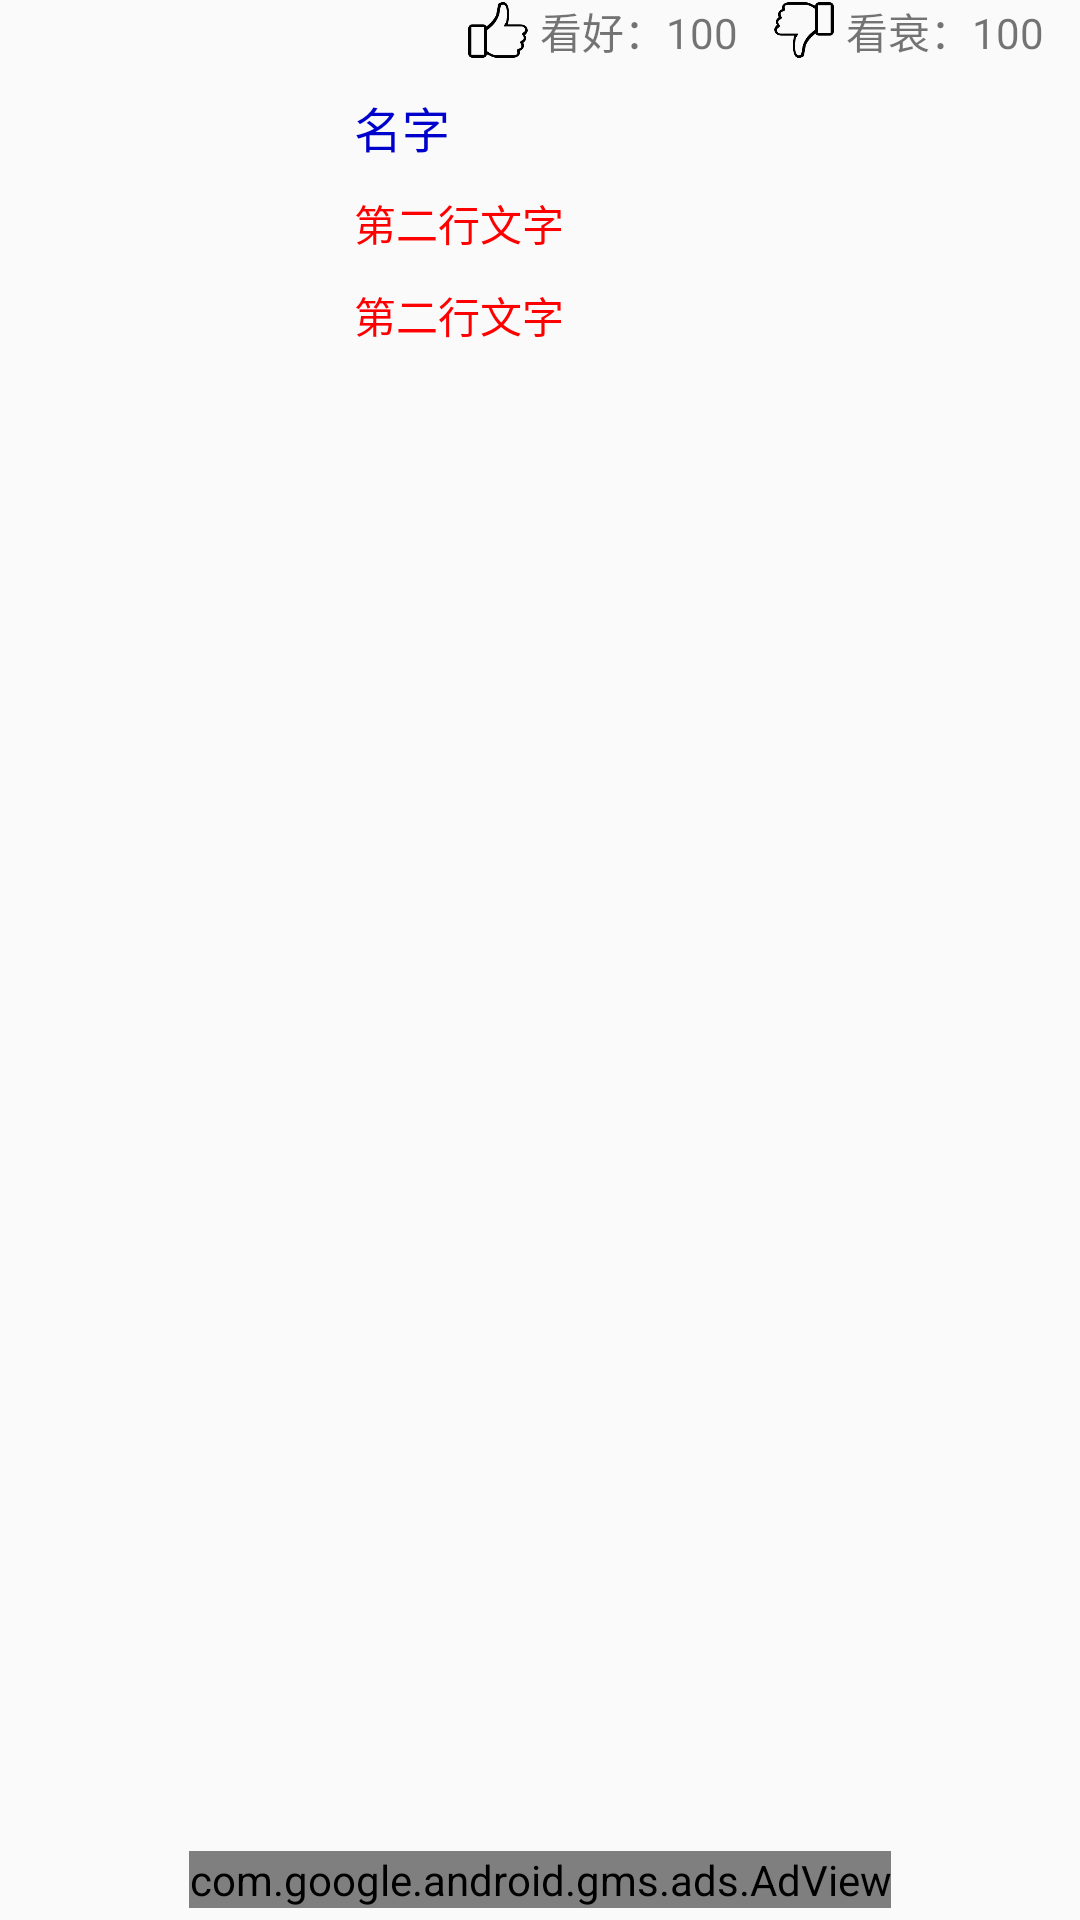

Icon bounding boxes for this 1080w x 1920h phone screenshot, format (x1, y1, x2, y2):
like: (468, 2, 528, 58)
unlike: (774, 2, 834, 58)
